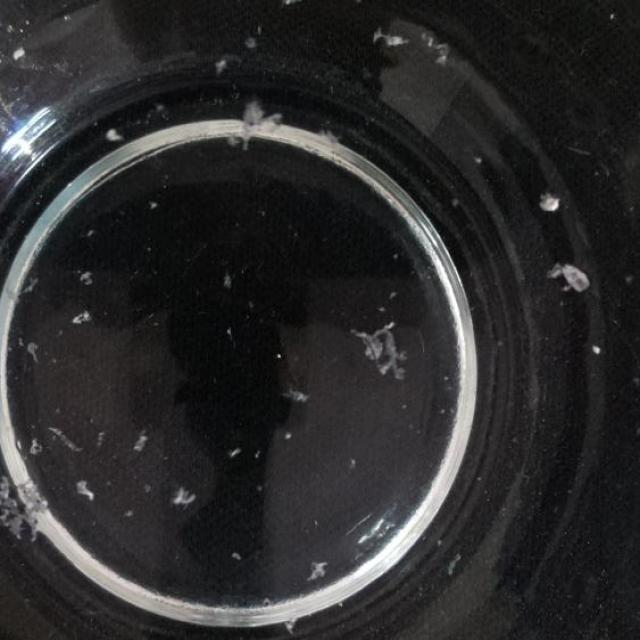fiber: (352, 314, 411, 385), (0, 469, 49, 547), (223, 98, 283, 154), (48, 420, 89, 455), (551, 261, 595, 293), (314, 119, 346, 163), (420, 31, 456, 68), (372, 26, 412, 54), (10, 338, 50, 365), (9, 272, 47, 299), (71, 474, 101, 507), (284, 383, 310, 413), (538, 193, 566, 219), (308, 559, 334, 582), (445, 550, 463, 582), (170, 486, 197, 506), (106, 123, 126, 149), (130, 432, 155, 451), (28, 434, 47, 458), (284, 612, 300, 640), (76, 268, 97, 286), (215, 54, 230, 76), (72, 309, 92, 325), (10, 44, 28, 61), (244, 38, 265, 52), (226, 445, 243, 462), (122, 510, 142, 522), (220, 272, 235, 286), (147, 198, 161, 212), (590, 343, 603, 358), (285, 426, 294, 446), (230, 546, 241, 562), (472, 155, 488, 165), (227, 323, 234, 341), (609, 12, 620, 22), (60, 12, 70, 23)
